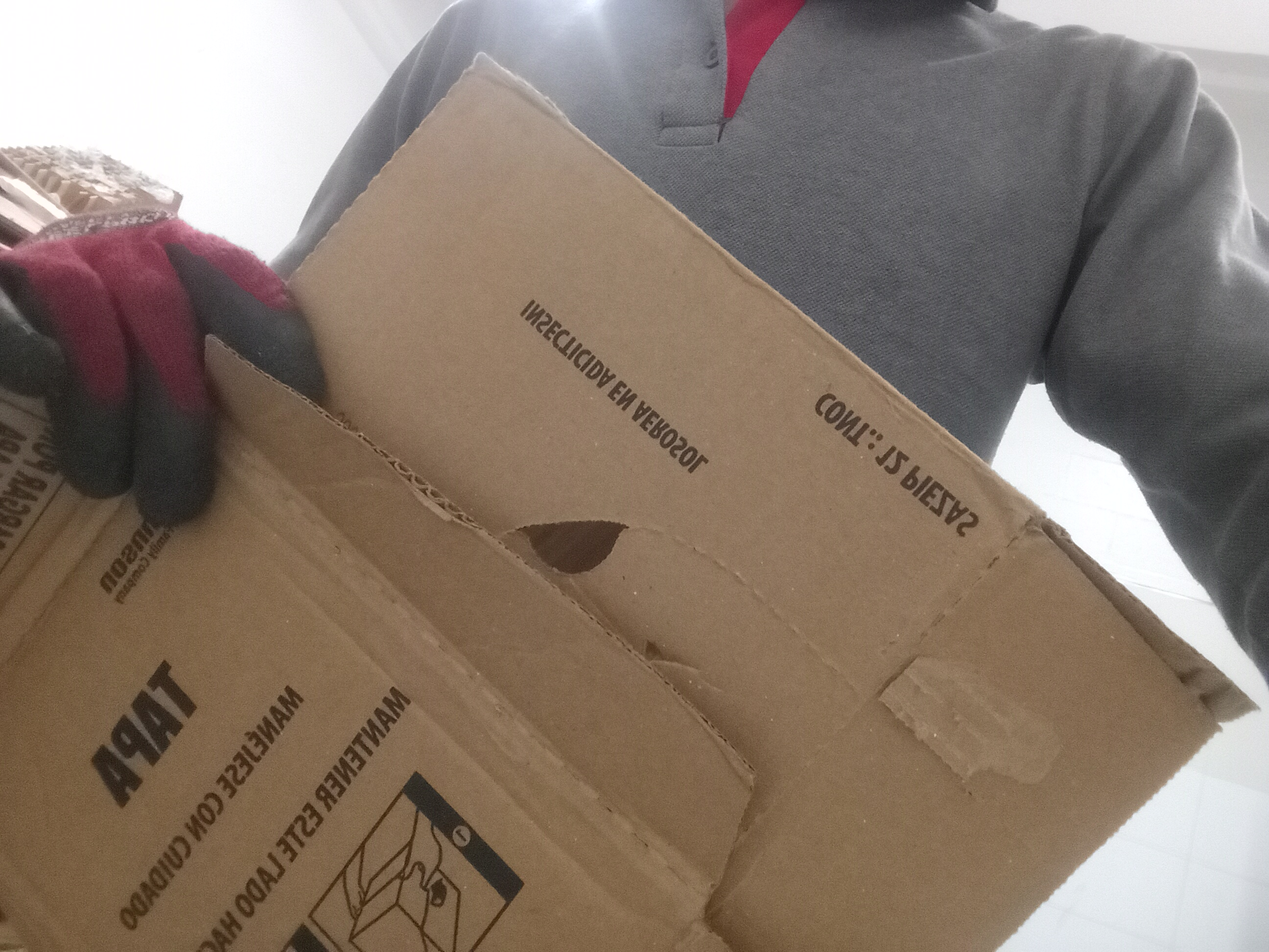Carton: (0, 56, 1236, 948)
